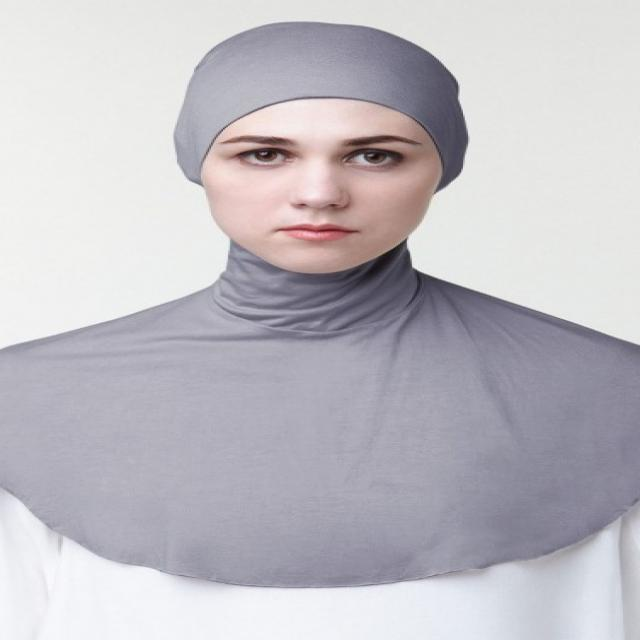head: (177, 20, 514, 285)
